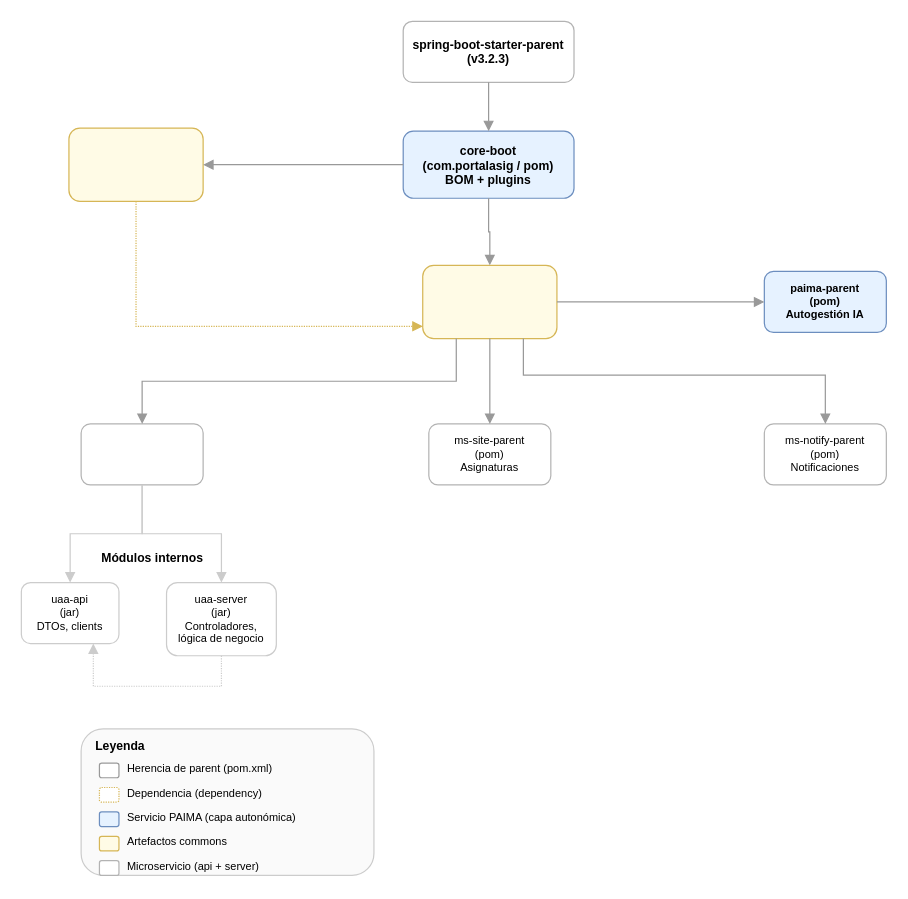
This 908x899 diagram has some shape labels left out. Each missing label, with the box of its shape:
core-backend (pom) JPA, Flyway, Observabilidad: (422, 264, 557, 339)
core-lib (jar) Web, Security, OAuth2, Jackson: (68, 127, 203, 201)
ms-uaa-parent (pom) Autenticación: (80, 423, 203, 485)
